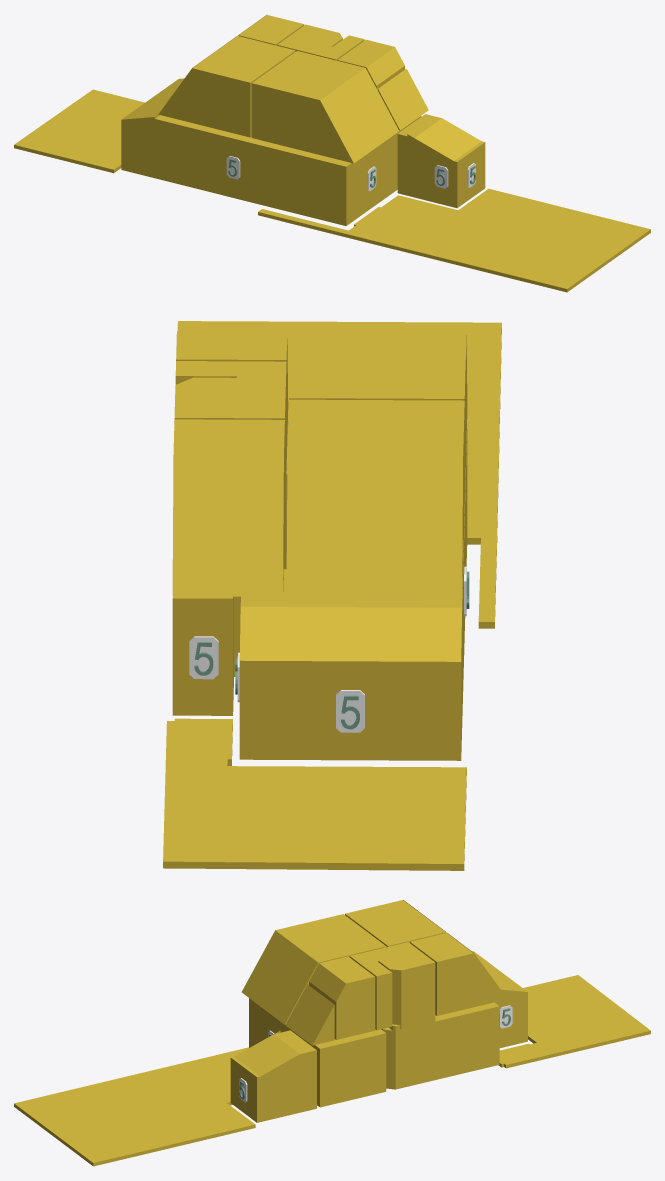
The picture shows the model from 3 angles, top to bottom: view 1: azimuth 30°, elevation 25°; view 2: azimuth 150°, elevation 25°; view 3: azimuth 270°, elevation 25°; orthographic projection. The views are drawn at different scales.
Parts seen in each view (by area): view 1: g_13, g_7, g_1, g_0, g_8, g_5, g_14, g_6, g_12, g_10, g_9, g_11; view 2: g_1, g_8, g_14, g_9, g_7, g_13, g_4, g_10, g_6, g_11, g_28, g_20; view 3: g_13, g_14, g_7, g_5, g_0, g_9, g_4, g_6, g_2, g_11, g_8, g_10 (+2 smaller).
Boxes of the visible parts, bbox=[...] form: g_13: bbox=[258, 188, 650, 292]; g_7: bbox=[251, 51, 398, 163]; g_1: bbox=[121, 78, 283, 209]; g_0: bbox=[279, 116, 421, 225]; g_8: bbox=[158, 36, 295, 137]; g_5: bbox=[397, 114, 485, 208]; g_14: bbox=[14, 89, 144, 173]; g_6: bbox=[337, 39, 404, 90]; g_12: bbox=[378, 68, 428, 130]; g_10: bbox=[277, 32, 364, 60]; g_9: bbox=[238, 14, 304, 45]; g_11: bbox=[295, 24, 342, 46]; g_1: bbox=[239, 492, 465, 760]; g_8: bbox=[286, 399, 464, 597]; g_14: bbox=[163, 718, 466, 870]; g_9: bbox=[172, 419, 284, 596]; g_7: bbox=[289, 332, 467, 503]; g_13: bbox=[177, 321, 501, 628]; g_4: bbox=[172, 556, 284, 715]; g_10: bbox=[175, 361, 286, 518]; g_6: bbox=[176, 331, 287, 458]; g_11: bbox=[174, 377, 236, 419]; g_28: bbox=[189, 636, 218, 679]; g_20: bbox=[336, 690, 364, 732]; g_13: bbox=[14, 1047, 255, 1166]; g_14: bbox=[498, 975, 650, 1068]; g_7: bbox=[241, 914, 386, 1024]; g_5: bbox=[230, 1030, 316, 1122]; g_0: bbox=[249, 998, 386, 1107]; g_9: bbox=[410, 933, 507, 1015]; g_4: bbox=[435, 1002, 499, 1079]; g_6: bbox=[309, 956, 375, 1039]; g_2: bbox=[381, 1017, 437, 1089]; g_11: bbox=[378, 954, 435, 1024]; g_8: bbox=[345, 900, 446, 946]; g_10: bbox=[349, 942, 423, 1030].
Bounding box in the file's own units: 17.74 × 5.36 × 25.38.
